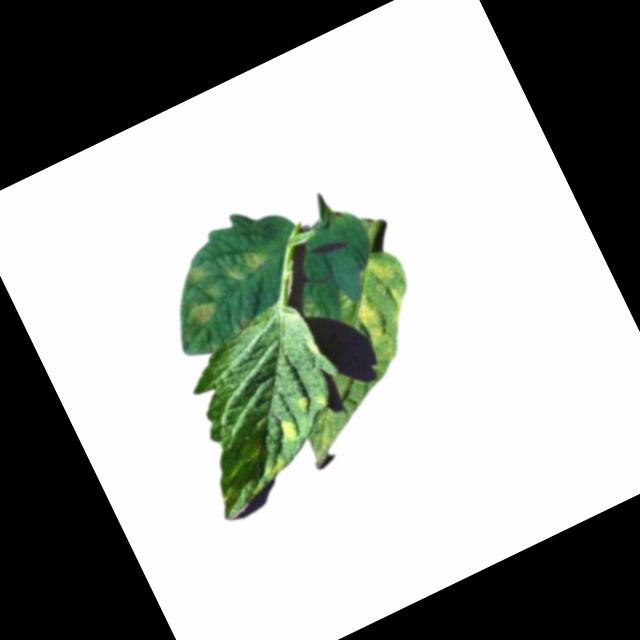Leaf_Mold: (352, 292, 398, 352), (229, 243, 274, 283), (364, 249, 401, 287), (185, 297, 223, 331), (183, 261, 217, 295), (273, 414, 304, 445)
